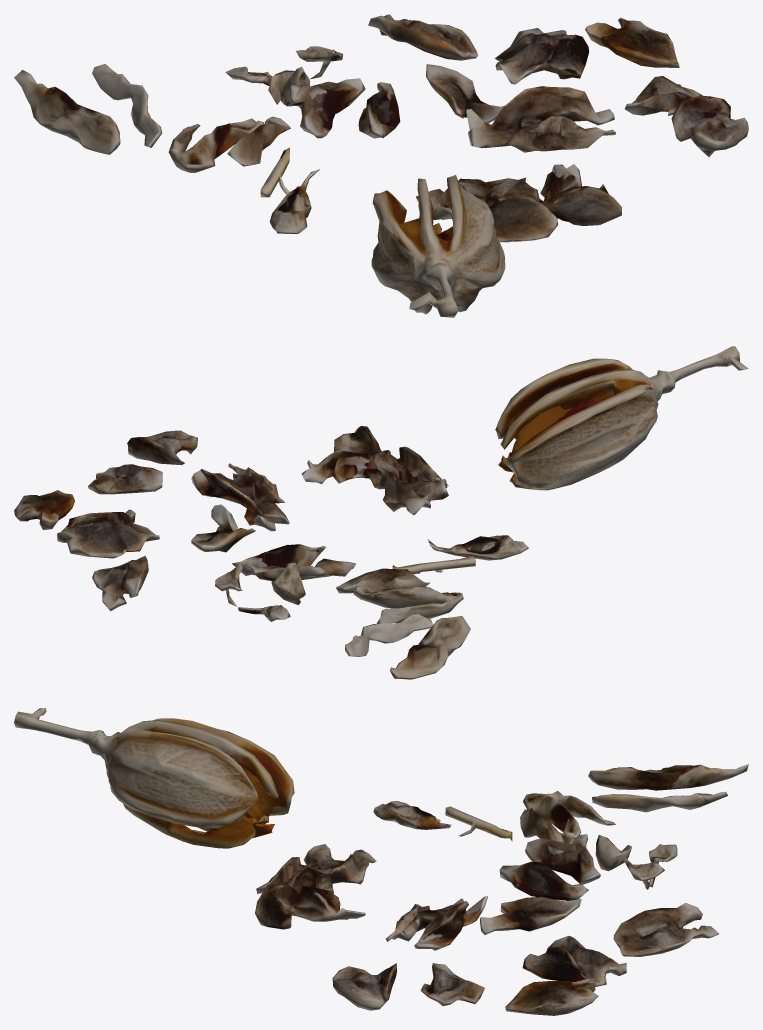
Rendered from echeveria_seed.fbx.
The picture shows the model from 3 angles, top to bottom: view 1: azimuth 30°, elevation 25°; view 2: azimuth 150°, elevation 25°; view 3: azimuth 270°, elevation 25°; orthographic projection. The views are drawn at different scales.
Parts seen in each view (by area): view 1: tripo_node_56929f7b; view 2: tripo_node_56929f7b; view 3: tripo_node_56929f7b.
Part boxes in pixels (<box>): tripo_node_56929f7b: <box>14,14,748,317</box>; tripo_node_56929f7b: <box>14,346,748,679</box>; tripo_node_56929f7b: <box>14,708,748,1015</box>.
Bounding box in the file's own units: 0.771 × 0.1586 × 1.
1 material, 1 textured.
